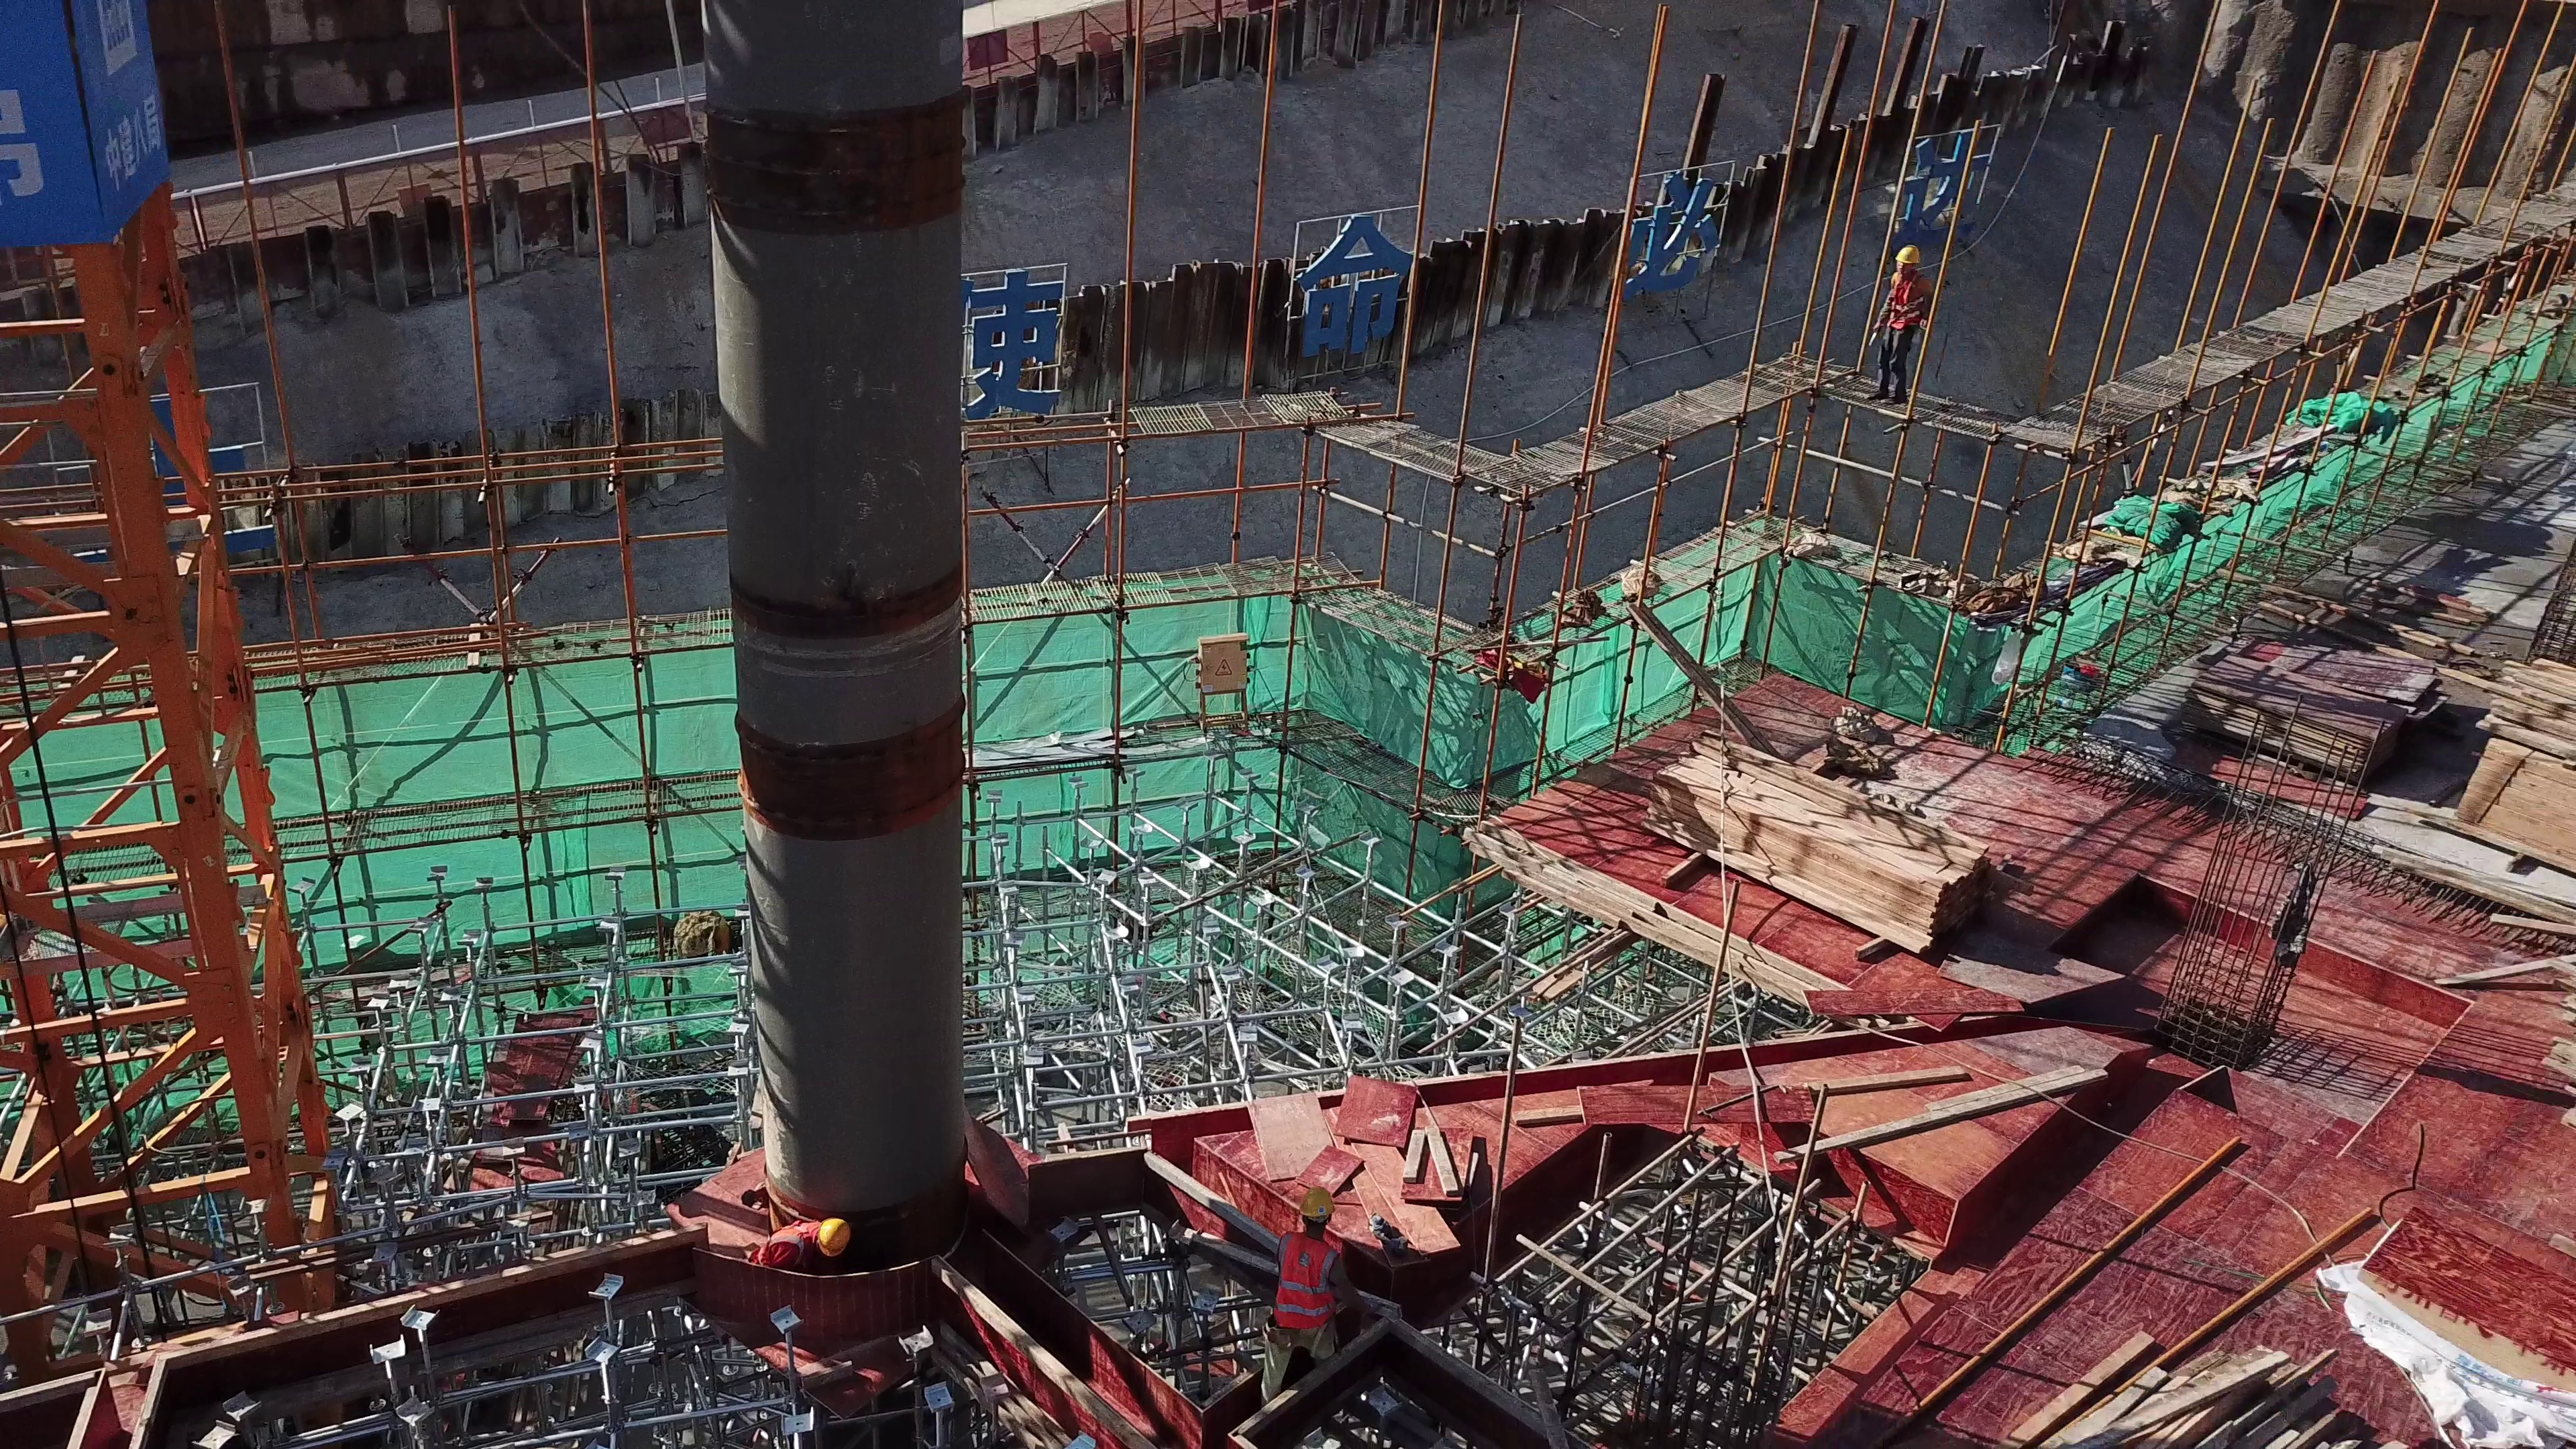helmet: (816, 1219, 853, 1258), (1296, 1189, 1338, 1220), (1896, 246, 1921, 264)
person: (1265, 1175, 1385, 1416), (1867, 241, 1933, 408), (741, 1207, 853, 1285)
vest: (1274, 1232, 1342, 1336), (747, 1218, 819, 1270), (1882, 272, 1929, 329)
